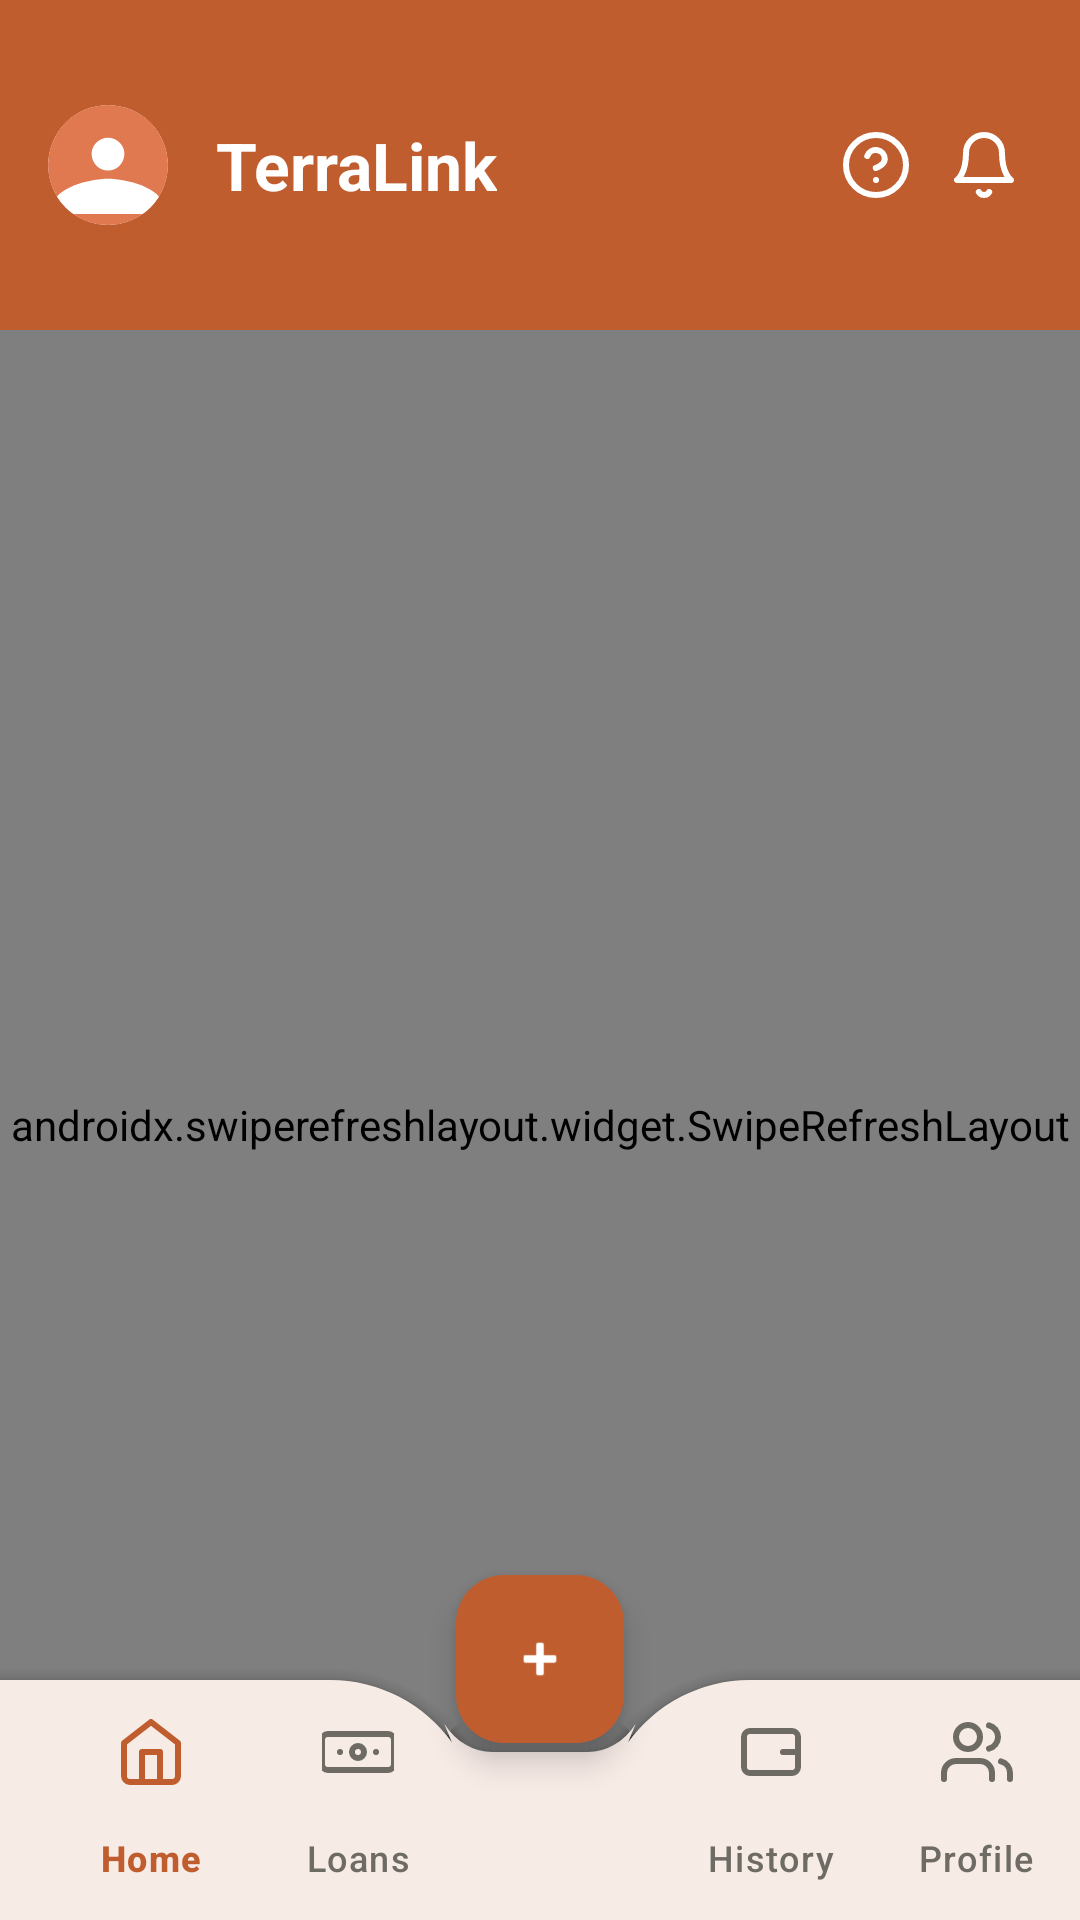

Where to tap for icons on this 1080 x 1920 app screen, as point (x, y):
add: point (540, 1680)
Notifications: point (984, 165)
Support: point (876, 165)
